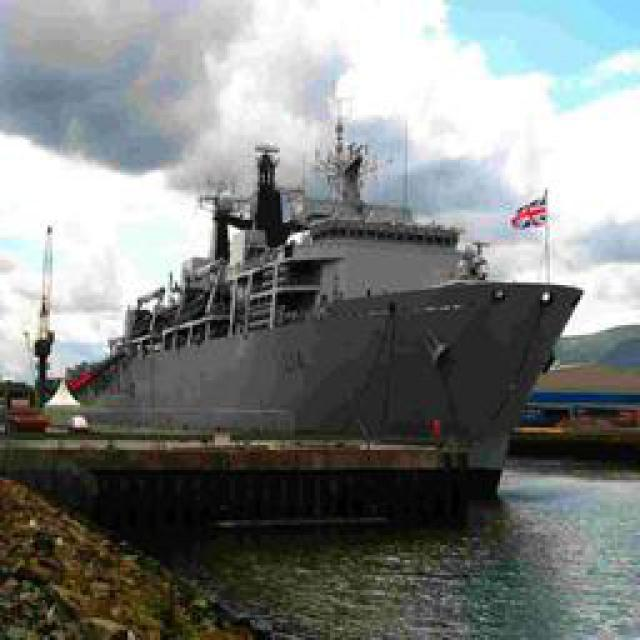Ship: (30, 272, 590, 522)
